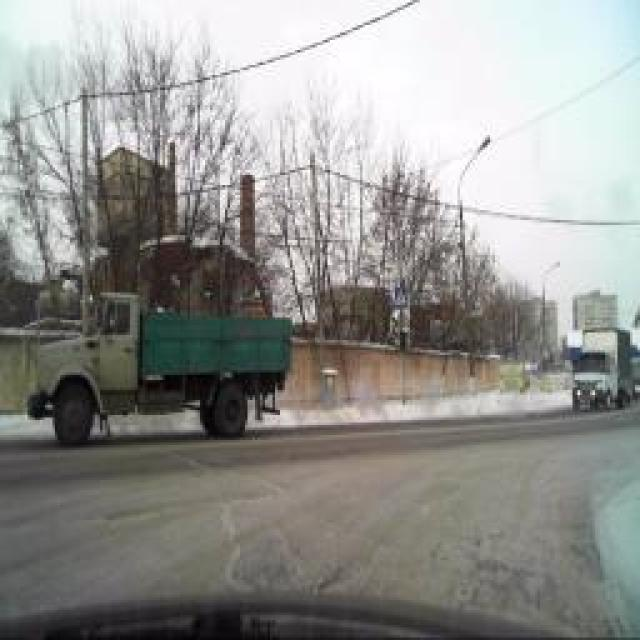sign: (394, 286, 406, 309)
